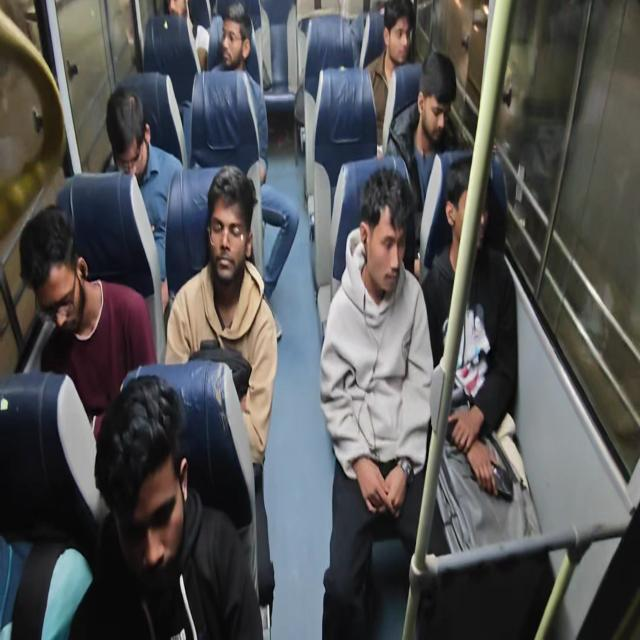person: (86, 370, 208, 592), (13, 209, 93, 346), (348, 168, 411, 319), (202, 165, 257, 289), (440, 157, 496, 266), (106, 86, 161, 193), (417, 58, 462, 157), (218, 11, 256, 83), (376, 0, 411, 70), (162, 0, 192, 34)
